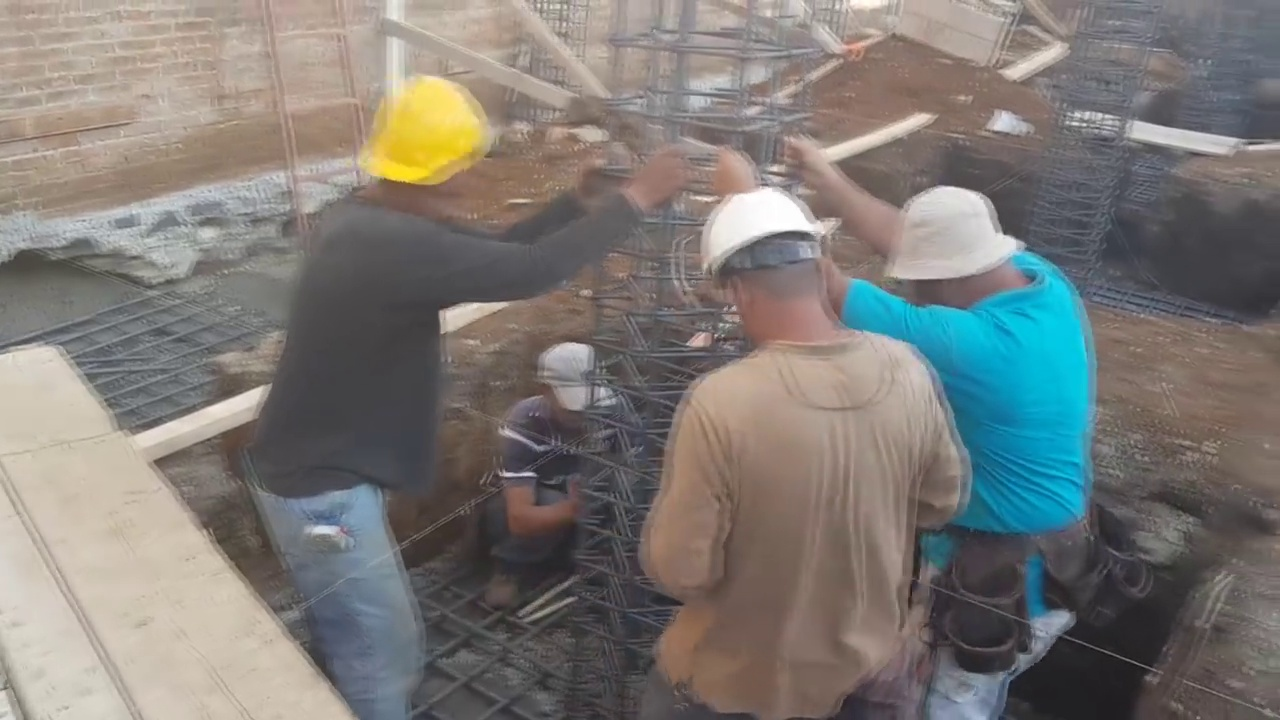helmet: (358, 72, 493, 185), (693, 185, 831, 285)
helmet-off: (885, 181, 1038, 321), (537, 342, 601, 422)
helmet-on: (694, 179, 844, 358), (350, 74, 499, 226)
person: (235, 73, 573, 720), (654, 182, 976, 720), (791, 137, 1087, 663), (490, 343, 620, 597)
